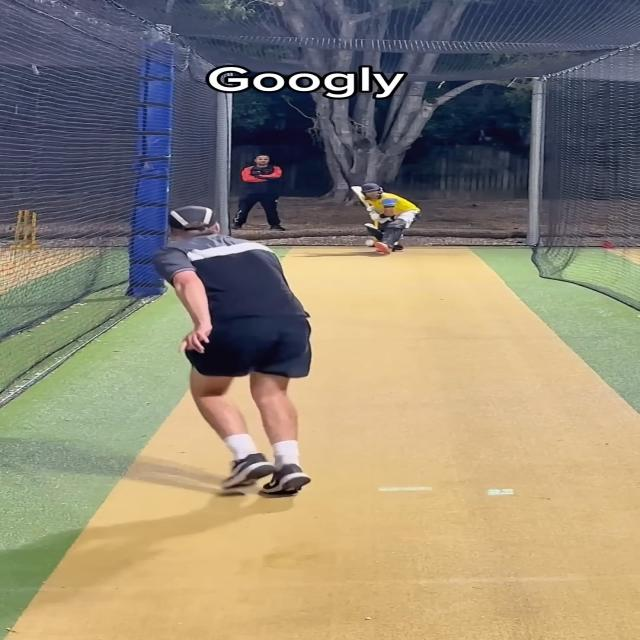Cricket ball: (364, 239, 375, 246)
